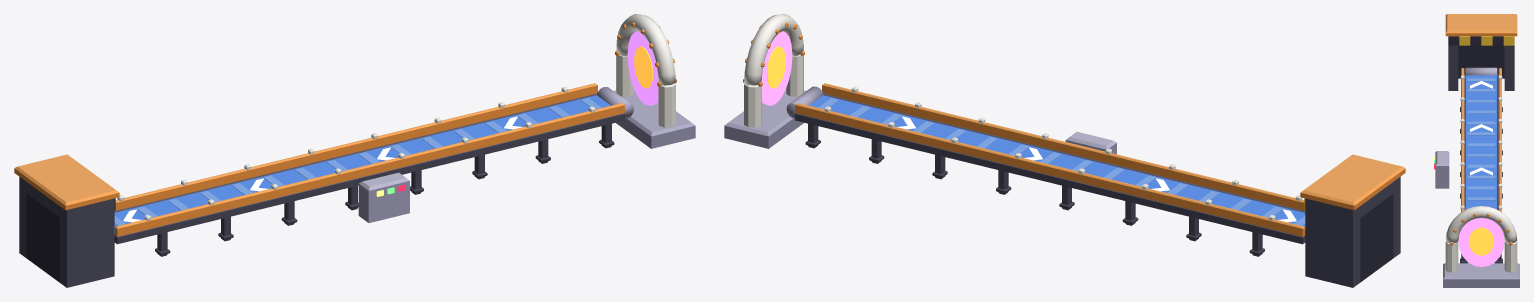
Rendered from Conveyor_1.glb.
The picture shows the model from 3 angles, left to right: view 1: azimuth 30°, elevation 25°; view 2: azimuth 150°, elevation 25°; view 3: azimuth 270°, elevation 25°; orthographic projection. The views are drawn at different scales.
Parts seen in each view (by area): view 1: Conveyor_1, Conveyor_1_Glow_portal, Conveyor_1_Glow_acc1, Conveyor_1_Glow_belt; view 2: Conveyor_1, Conveyor_1_Glow_portal, Conveyor_1_Glow_acc1, Conveyor_1_Glow_belt; view 3: Conveyor_1, Conveyor_1_Glow_portal, Conveyor_1_Glow_acc1, Conveyor_1_Glow_belt.
Part boxes in pixels (bbox=[...]): Conveyor_1: bbox=[14, 14, 695, 287]; Conveyor_1_Glow_portal: bbox=[627, 31, 658, 105]; Conveyor_1_Glow_acc1: bbox=[634, 46, 653, 88]; Conveyor_1_Glow_belt: bbox=[123, 116, 522, 222]; Conveyor_1: bbox=[724, 14, 1405, 287]; Conveyor_1_Glow_portal: bbox=[761, 31, 792, 105]; Conveyor_1_Glow_acc1: bbox=[766, 46, 785, 88]; Conveyor_1_Glow_belt: bbox=[897, 116, 1296, 222]; Conveyor_1: bbox=[1435, 14, 1519, 287]; Conveyor_1_Glow_portal: bbox=[1458, 218, 1504, 266]; Conveyor_1_Glow_acc1: bbox=[1468, 227, 1494, 255]; Conveyor_1_Glow_belt: bbox=[1470, 81, 1492, 175].
Bounding box in the file's own units: 79.2 × 13 × 13.4.
7 materials, 1 textured.
